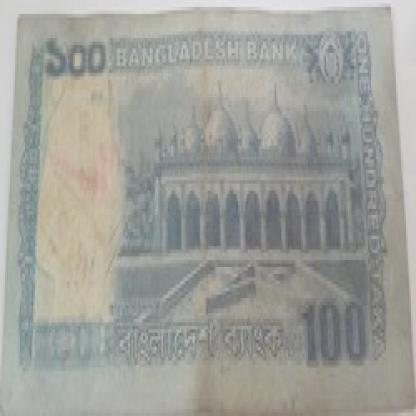one hundred taka: (298, 288, 373, 378), (38, 35, 110, 80)
